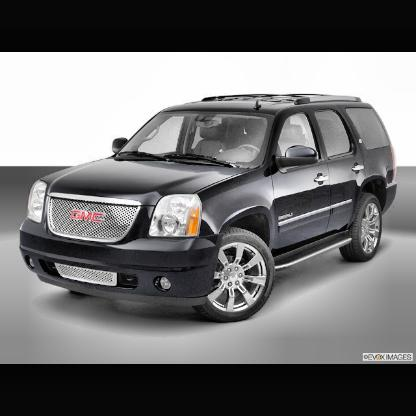GMC Yukon Hybrid SUV 2012: (20, 93, 398, 325)
